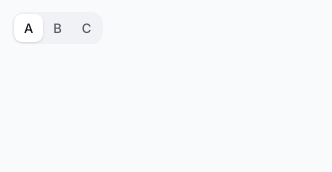
Test case: SegmentedControl › supports arrow keys and never deselects
Click the radio button labelled "A" at (29, 28), box [14,14,43,42]
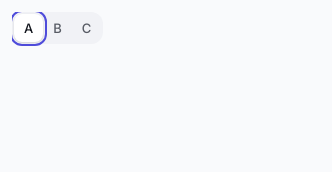
Press Arrowright
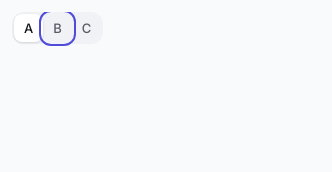
Type keys " "
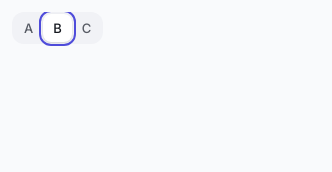
Result: the radio button labelled "B" is checked at [43,14,72,42]
